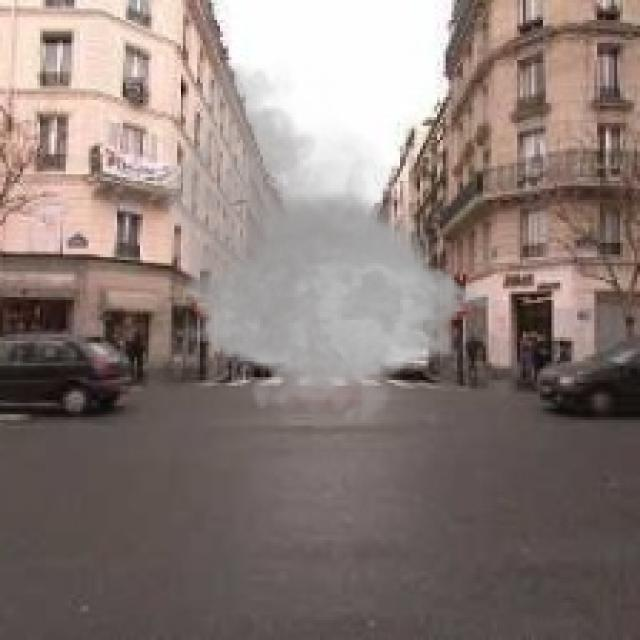smoke: (146, 57, 517, 434)
